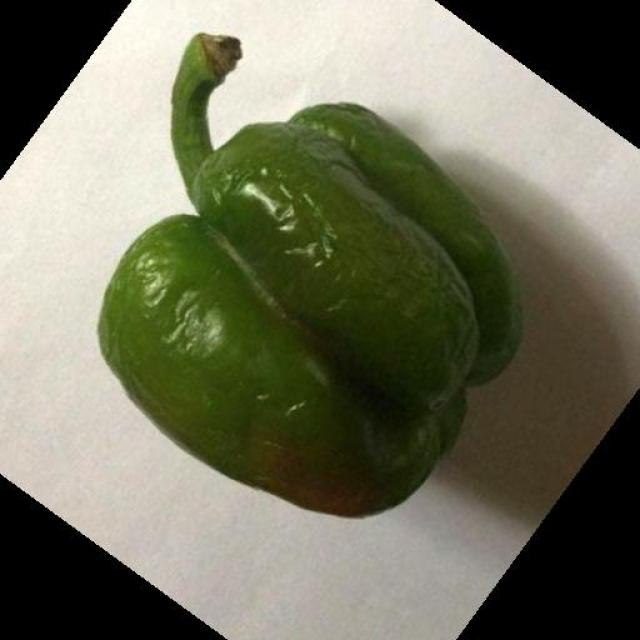Stale_Capsicum: (81, 96, 517, 507)
